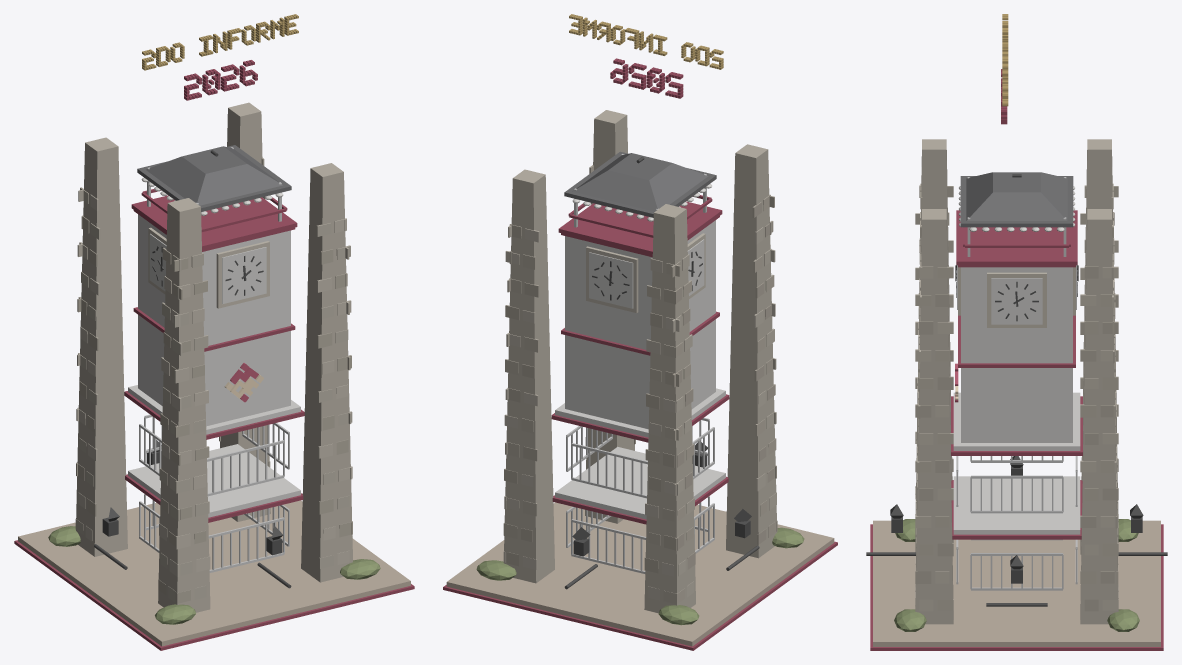
Rendered from reloj_monumento_ar_v5.glb.
3 renders of one model, left to right at view 1: azimuth 30°, elevation 25°; view 2: azimuth 150°, elevation 25°; view 3: azimuth 270°, elevation 25°, orthographic.
Parts seen in each view (by area): view 1: reloj_monumento; view 2: reloj_monumento; view 3: reloj_monumento.
Boxes of the visible parts, x1=… form: reloj_monumento: x1=14, y1=14, x2=414, y2=650; reloj_monumento: x1=443, y1=14, x2=837, y2=650; reloj_monumento: x1=866, y1=14, x2=1167, y2=650.
Bounding box in the file's own units: 1.16 × 2.35 × 1.19.
